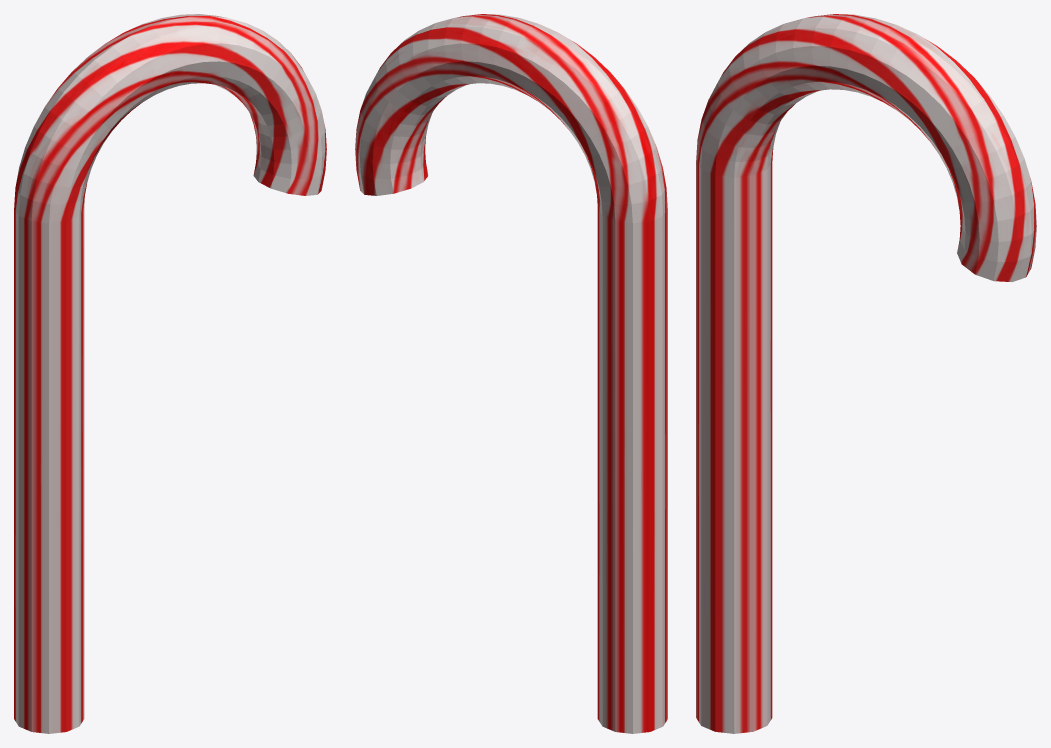
File: zuckerstange.002.gltf
3 views of the same model, side by side, from view 1: azimuth 30°, elevation 25°; view 2: azimuth 150°, elevation 25°; view 3: azimuth 330°, elevation 25° (orthographic). The views are drawn at different scales.
Parts seen in each view (by area): view 1: zuckerstange.002; view 2: zuckerstange.002; view 3: zuckerstange.002.
Part boxes in pixels (<box>): zuckerstange.002: <box>14,14,326,733</box>; zuckerstange.002: <box>355,14,667,733</box>; zuckerstange.002: <box>696,14,1036,733</box>.
Size of the model in its own units: 1.25 by 2.64 by 0.25.
Materials: 1 (1 with a texture image).
